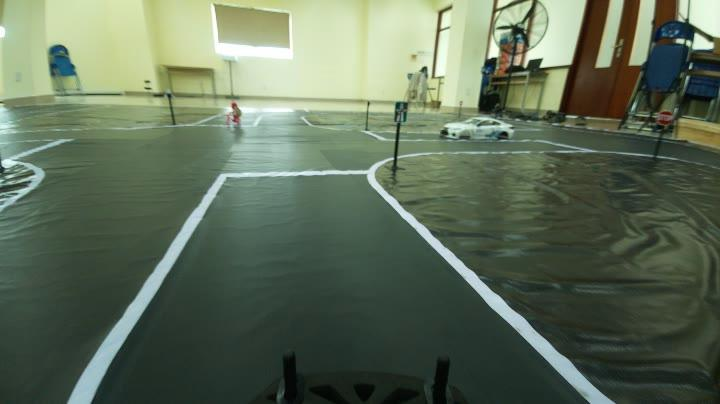highway_exit: (388, 99, 412, 123)
